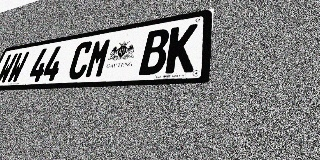4: (40, 45, 67, 81), (27, 47, 53, 82)
B: (138, 28, 171, 75)
C: (66, 40, 94, 80)
K: (165, 23, 198, 74)
M: (84, 37, 113, 79)
W: (6, 51, 30, 84), (0, 53, 18, 84)
